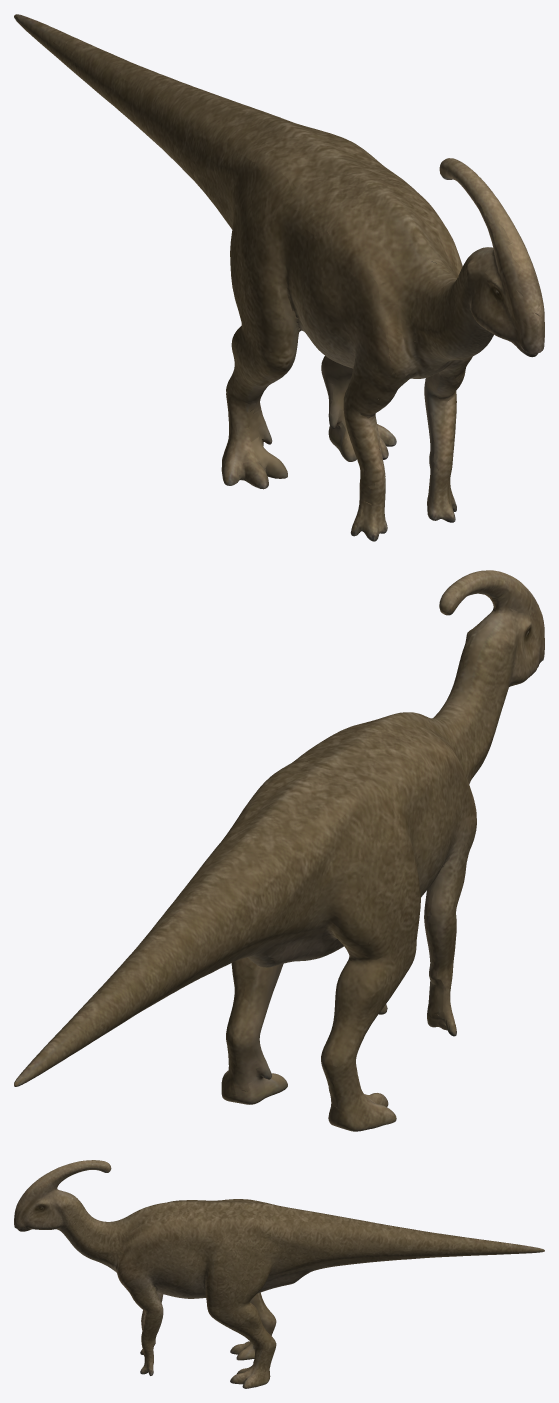
The model's file is Parasaurolophus.glb.
The picture shows the model from 3 angles, top to bottom: view 1: azimuth 30°, elevation 25°; view 2: azimuth 150°, elevation 25°; view 3: azimuth 270°, elevation 25°; orthographic projection. The views are drawn at different scales.
Size of the model in its own units: 0.358 by 0.8219 by 1.9.
Materials: 1 (1 with a texture image).
